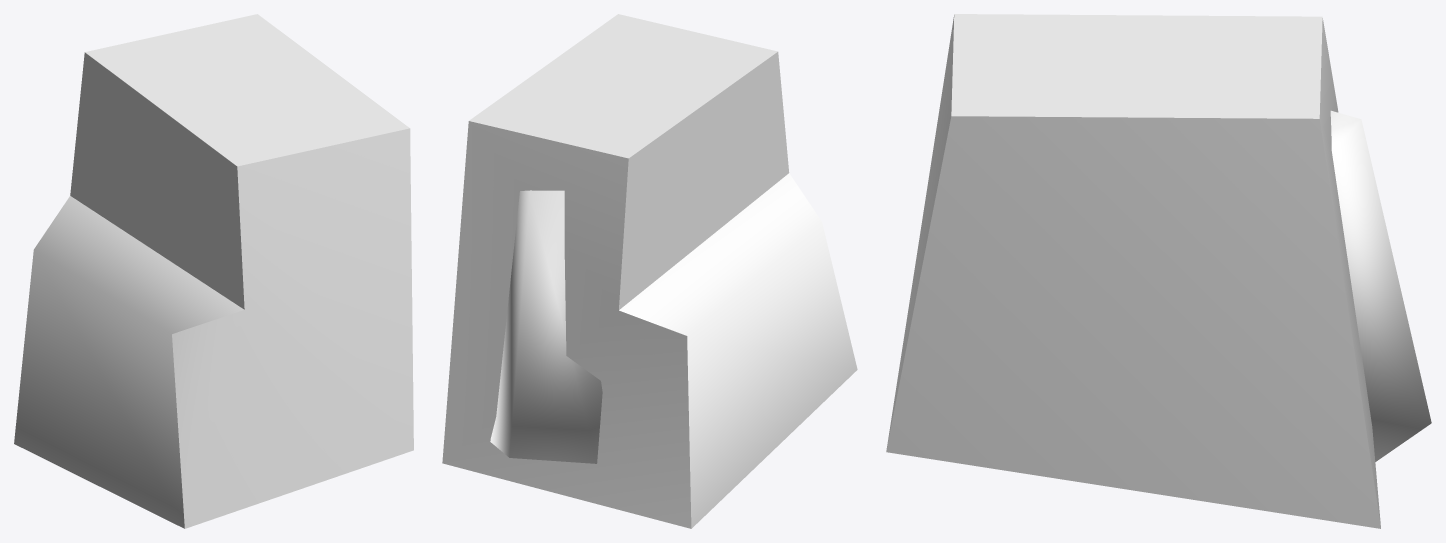
Rendered from LimbHandRight.obj.
3 renders of one model, left to right at view 1: azimuth 30°, elevation 25°; view 2: azimuth 150°, elevation 25°; view 3: azimuth 270°, elevation 25°, orthographic. The views are drawn at different scales.
Size of the model in its own units: 0.9412 by 1.38 by 1.53.
1 material, 1 textured.
